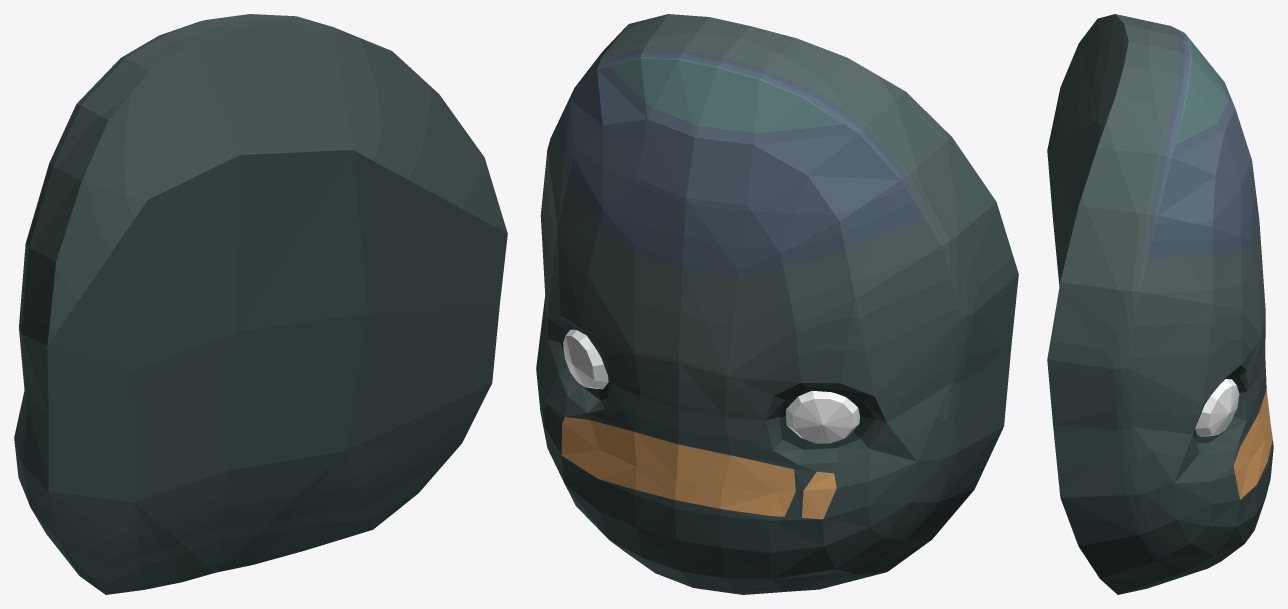
The model's file is CharSkyKid_Mask_AP10MaskA_01.glb.
The picture shows the model from 3 angles, left to right: view 1: azimuth 30°, elevation 25°; view 2: azimuth 150°, elevation 25°; view 3: azimuth 270°, elevation 25°; orthographic projection. The views are drawn at different scales.
Visible parts, largest first — view 1: CharSkyKid_Mask_AP10MaskA_01; view 2: CharSkyKid_Mask_AP10MaskA_01; view 3: CharSkyKid_Mask_AP10MaskA_01.
Boxes of the visible parts, x1=… form: CharSkyKid_Mask_AP10MaskA_01: x1=14, y1=14, x2=507, y2=594; CharSkyKid_Mask_AP10MaskA_01: x1=536, y1=14, x2=1018, y2=594; CharSkyKid_Mask_AP10MaskA_01: x1=1047, y1=14, x2=1273, y2=594.
Size of the model in its own units: 2.16 by 2.49 by 0.9866.
1 material, 1 textured.
